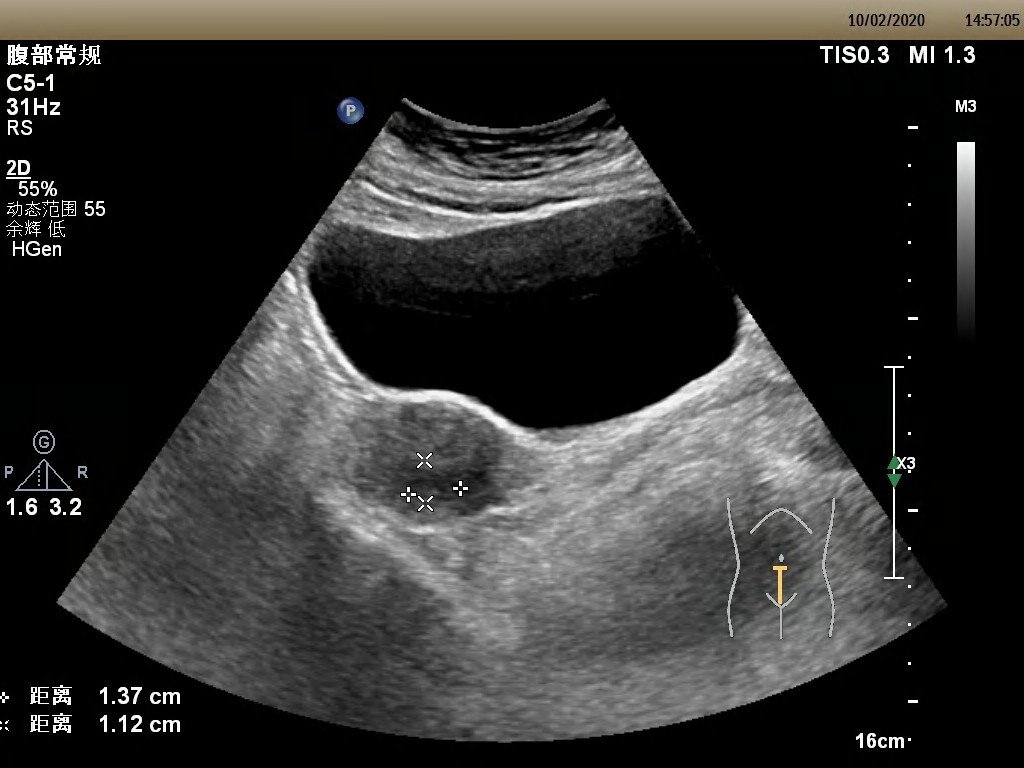肌瘤: (404, 464, 456, 507)
